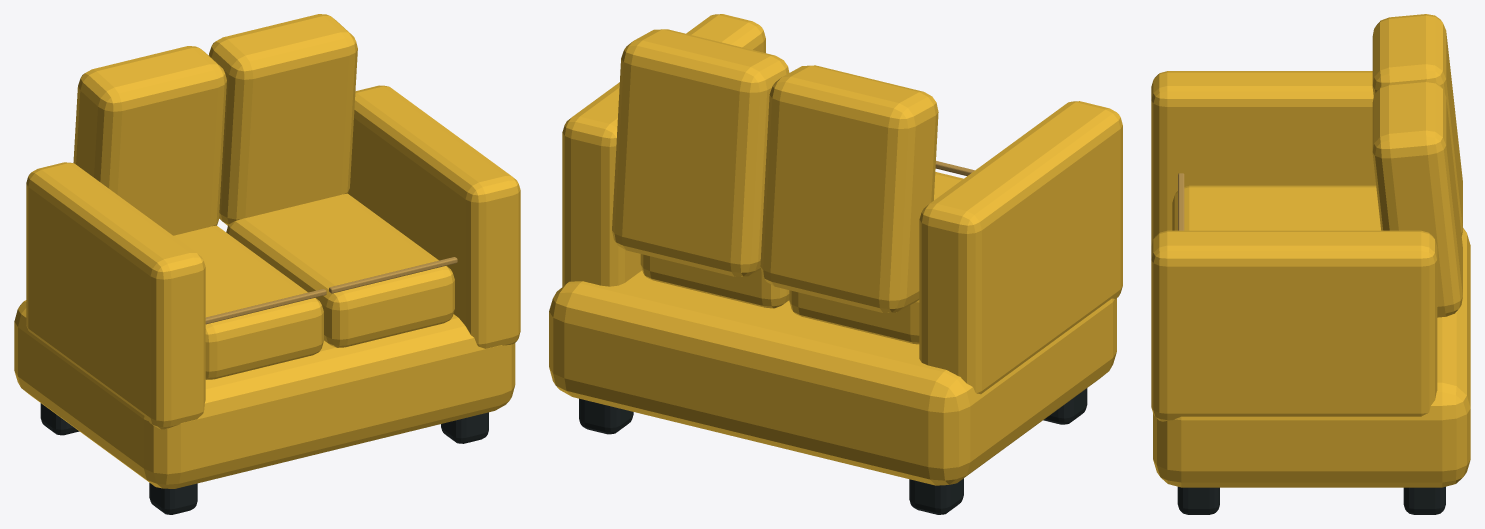
Rendered from best.glb.
3 views of the same model, side by side, from view 1: azimuth 30°, elevation 25°; view 2: azimuth 150°, elevation 25°; view 3: azimuth 270°, elevation 25° (orthographic). The views are drawn at different scales.
Visible parts, largest first — view 1: Armrest, Sofa foot, Upholstery piping; view 2: Armrest, Sofa foot; view 3: Armrest, Sofa foot, Upholstery piping.
Boxes of the visible parts, x1,y1,x2,y2 form: Armrest: [14, 14, 520, 488]; Sofa foot: [40, 403, 488, 514]; Upholstery piping: [205, 257, 457, 324]; Armrest: [549, 14, 1122, 485]; Sofa foot: [579, 388, 1087, 514]; Armrest: [1151, 14, 1470, 487]; Sofa foot: [1177, 486, 1445, 514]; Upholstery piping: [1178, 173, 1184, 230].
Size of the model in its own units: 1 by 0.907 by 0.724.
